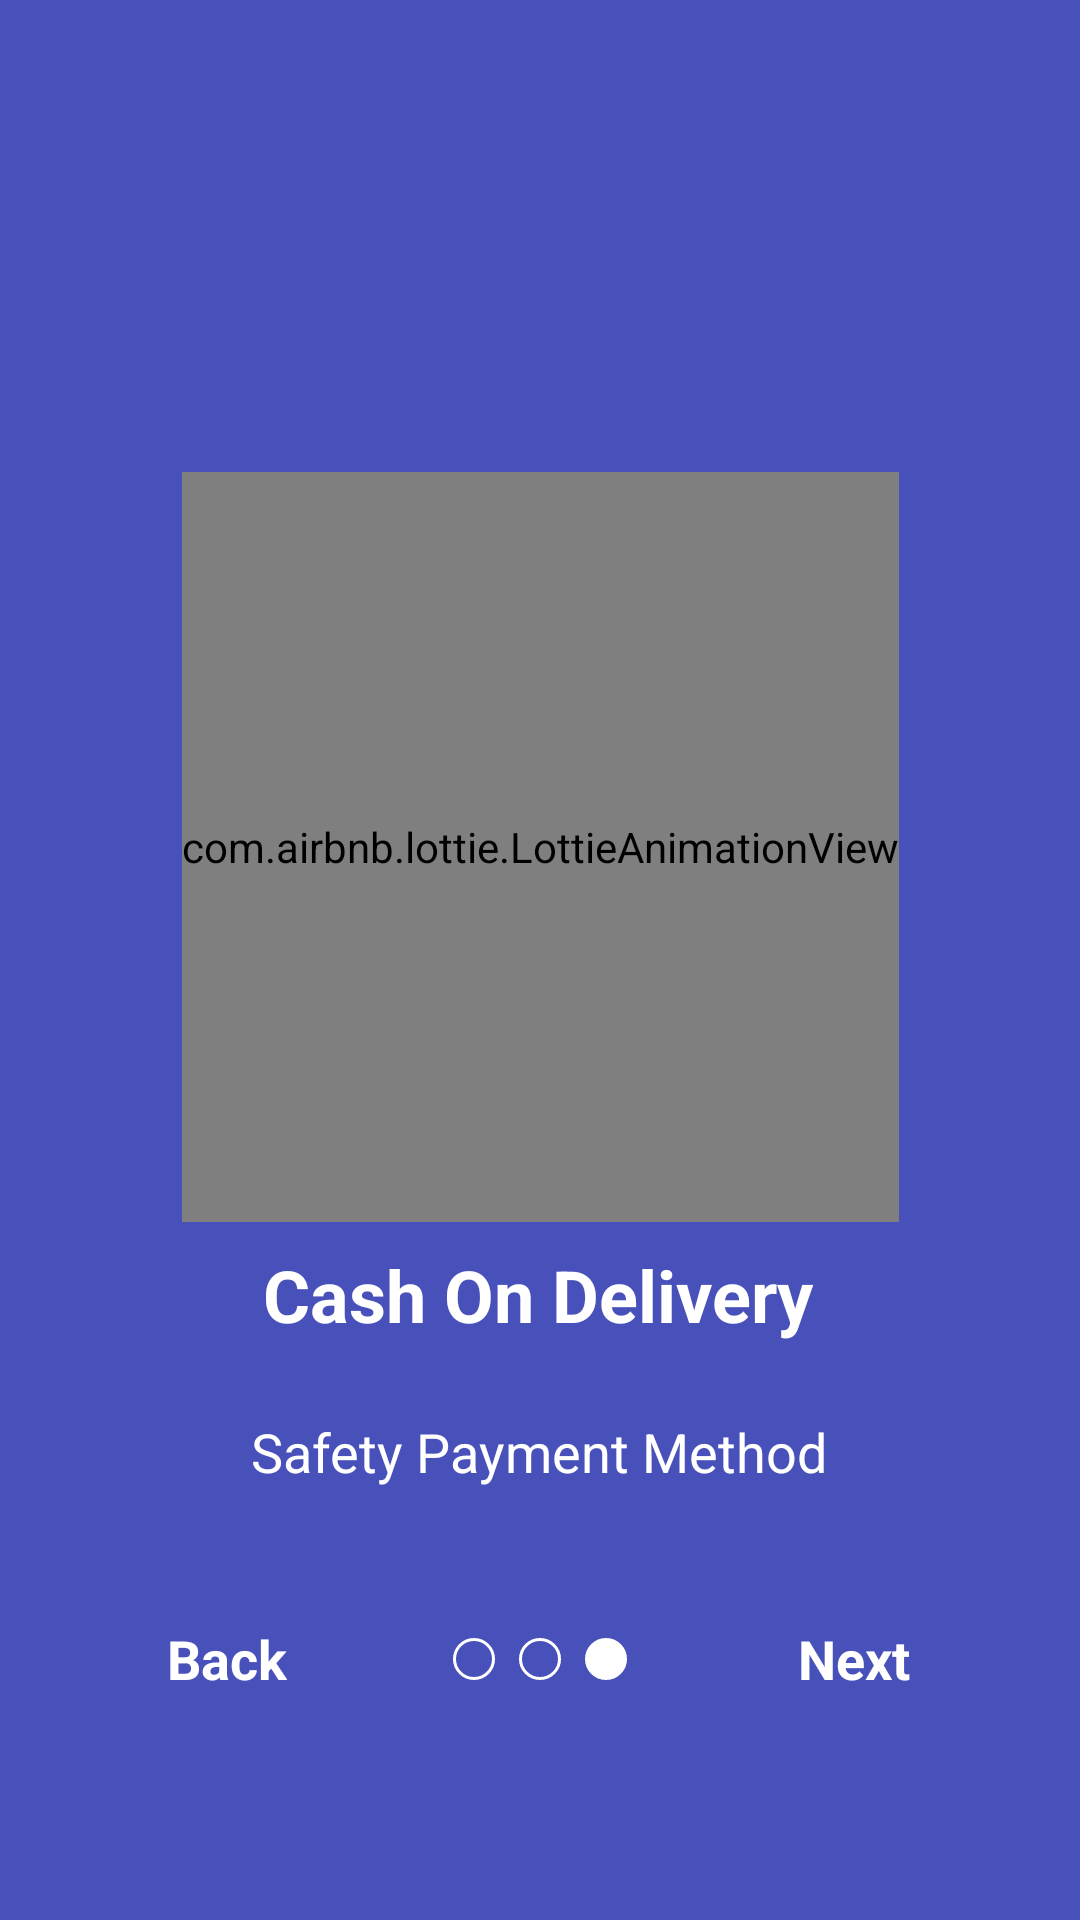

Screen size 1080x1920. Icon name, then its box in pixels as [x1=x1, y1=y1, x2=x2, y2=y2]:
circle: [x1=585, y1=1638, x2=627, y2=1680]
circle blank: [x1=453, y1=1638, x2=495, y2=1680], [x1=519, y1=1638, x2=561, y2=1680]
